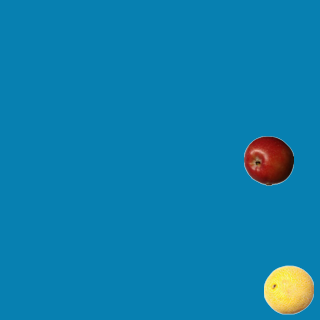Apple Braeburn: (243, 135, 293, 185)
Cantaloupe 1: (263, 264, 313, 314)
